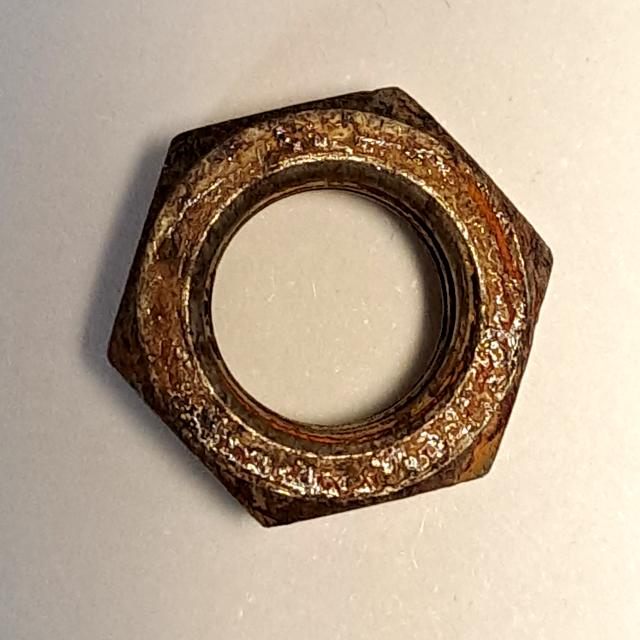Rust: (92, 66, 566, 540)
